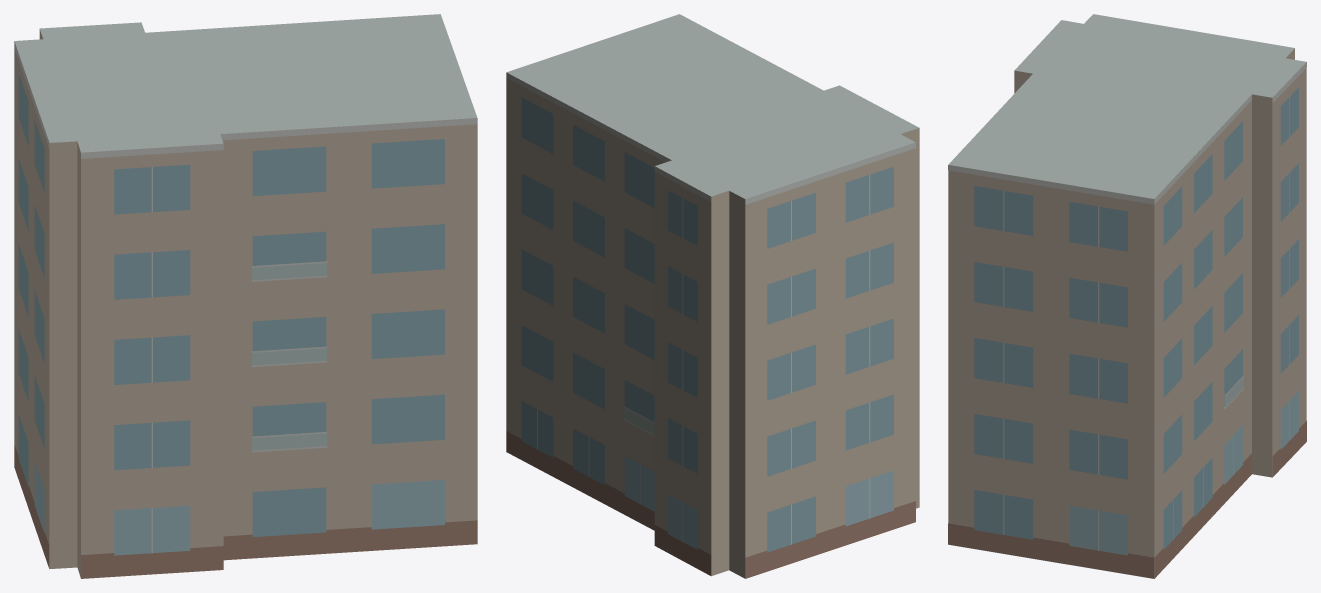
Rendered from survey-upis-32879203.glb.
The picture shows the model from 3 angles, left to right: view 1: azimuth 30°, elevation 25°; view 2: azimuth 150°, elevation 25°; view 3: azimuth 270°, elevation 25°; orthographic projection. The views are drawn at different scales.
Visible parts, largest first — view 1: survey-upis-32879203.tmp; view 2: survey-upis-32879203.tmp; view 3: survey-upis-32879203.tmp.
Boxes of the visible parts, x1,y1,x2,y2 form: survey-upis-32879203.tmp: [14, 14, 477, 578]; survey-upis-32879203.tmp: [506, 14, 919, 578]; survey-upis-32879203.tmp: [948, 14, 1306, 578].
Bounding box in the file's own units: 17.25 × 16.5 × 14.13.
